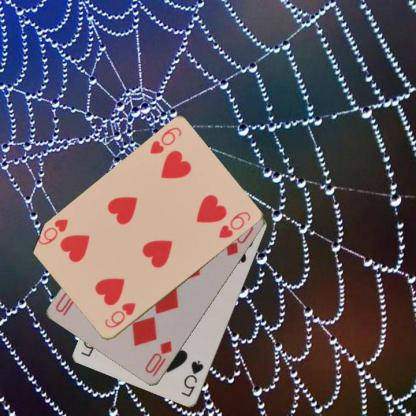10d: (142, 338, 173, 378)
5s: (179, 358, 205, 398)
6h: (147, 125, 183, 156), (102, 300, 137, 330)
